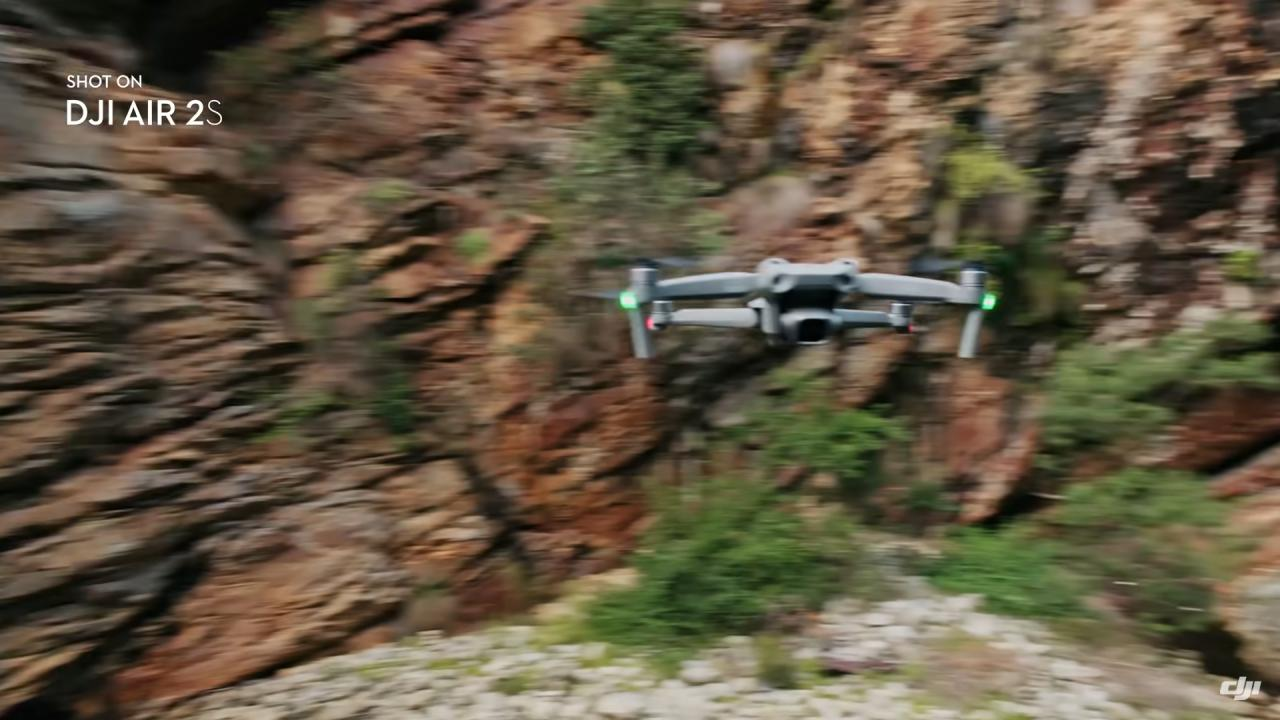Drone: (585, 234, 1012, 392)
